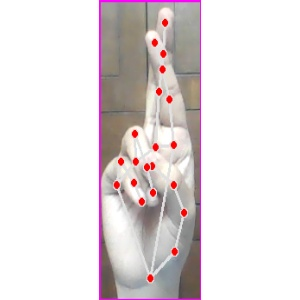R: (100, 2, 201, 300)
